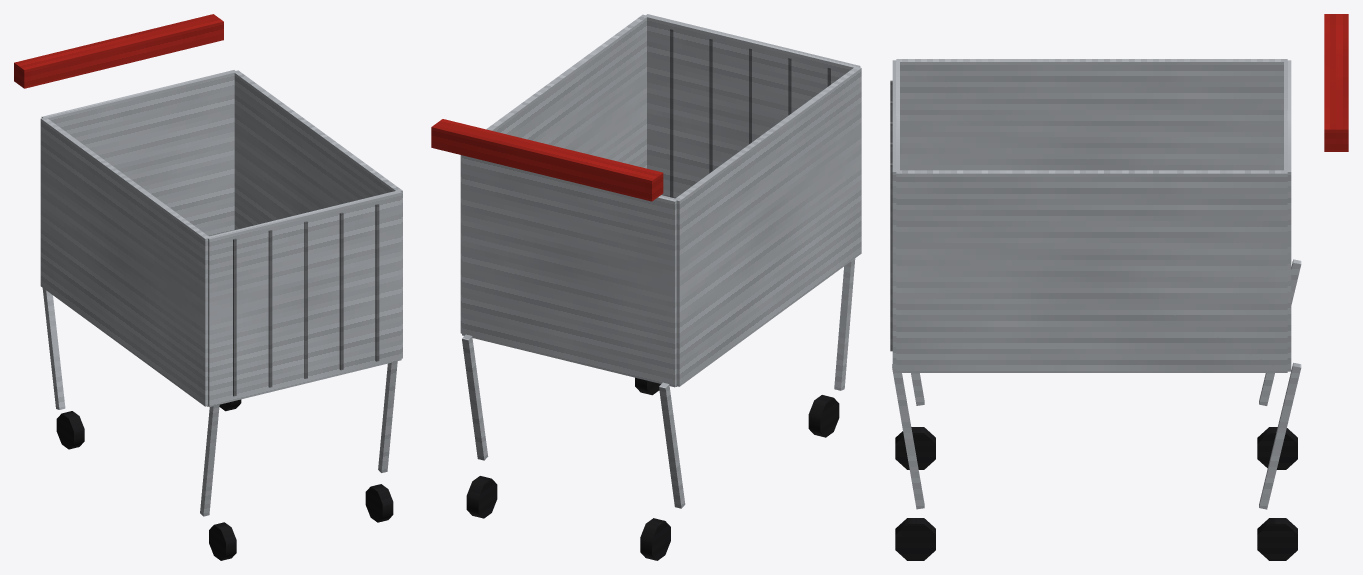
Rendered from carrinho_compras.glb.
3 renders of one model, left to right at view 1: azimuth 30°, elevation 25°; view 2: azimuth 150°, elevation 25°; view 3: azimuth 270°, elevation 25°, orthographic. The views are drawn at different scales.
Parts seen in each view (by area): view 1: Inteiro; view 2: Inteiro; view 3: Inteiro.
Part boxes in pixels (<box>): Inteiro: <box>14,14,402,560</box>; Inteiro: <box>431,14,861,560</box>; Inteiro: <box>890,14,1348,560</box>.
Size of the model in its own units: 0.56 by 0.9866 by 0.937.
Materials: 1 (1 with a texture image).
